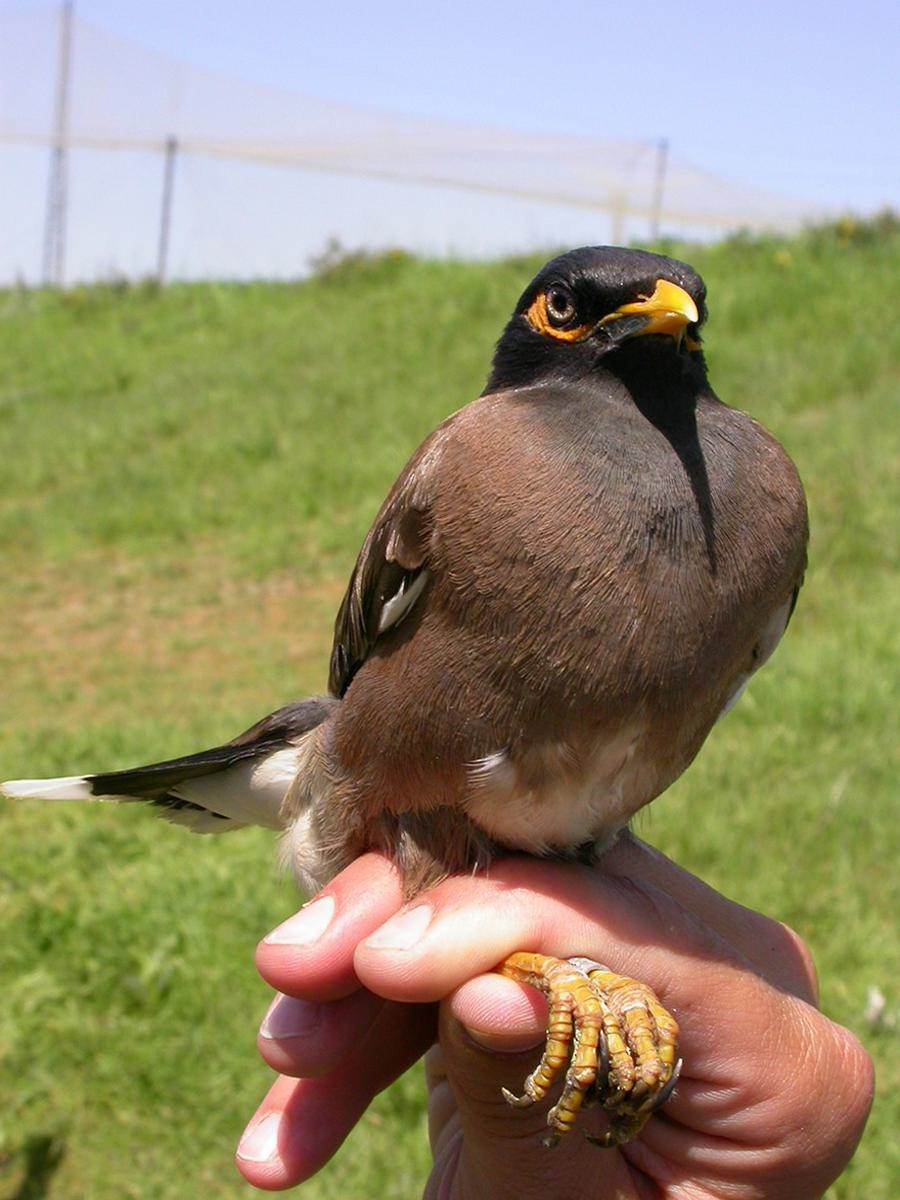myna: (157, 218, 791, 1001)
